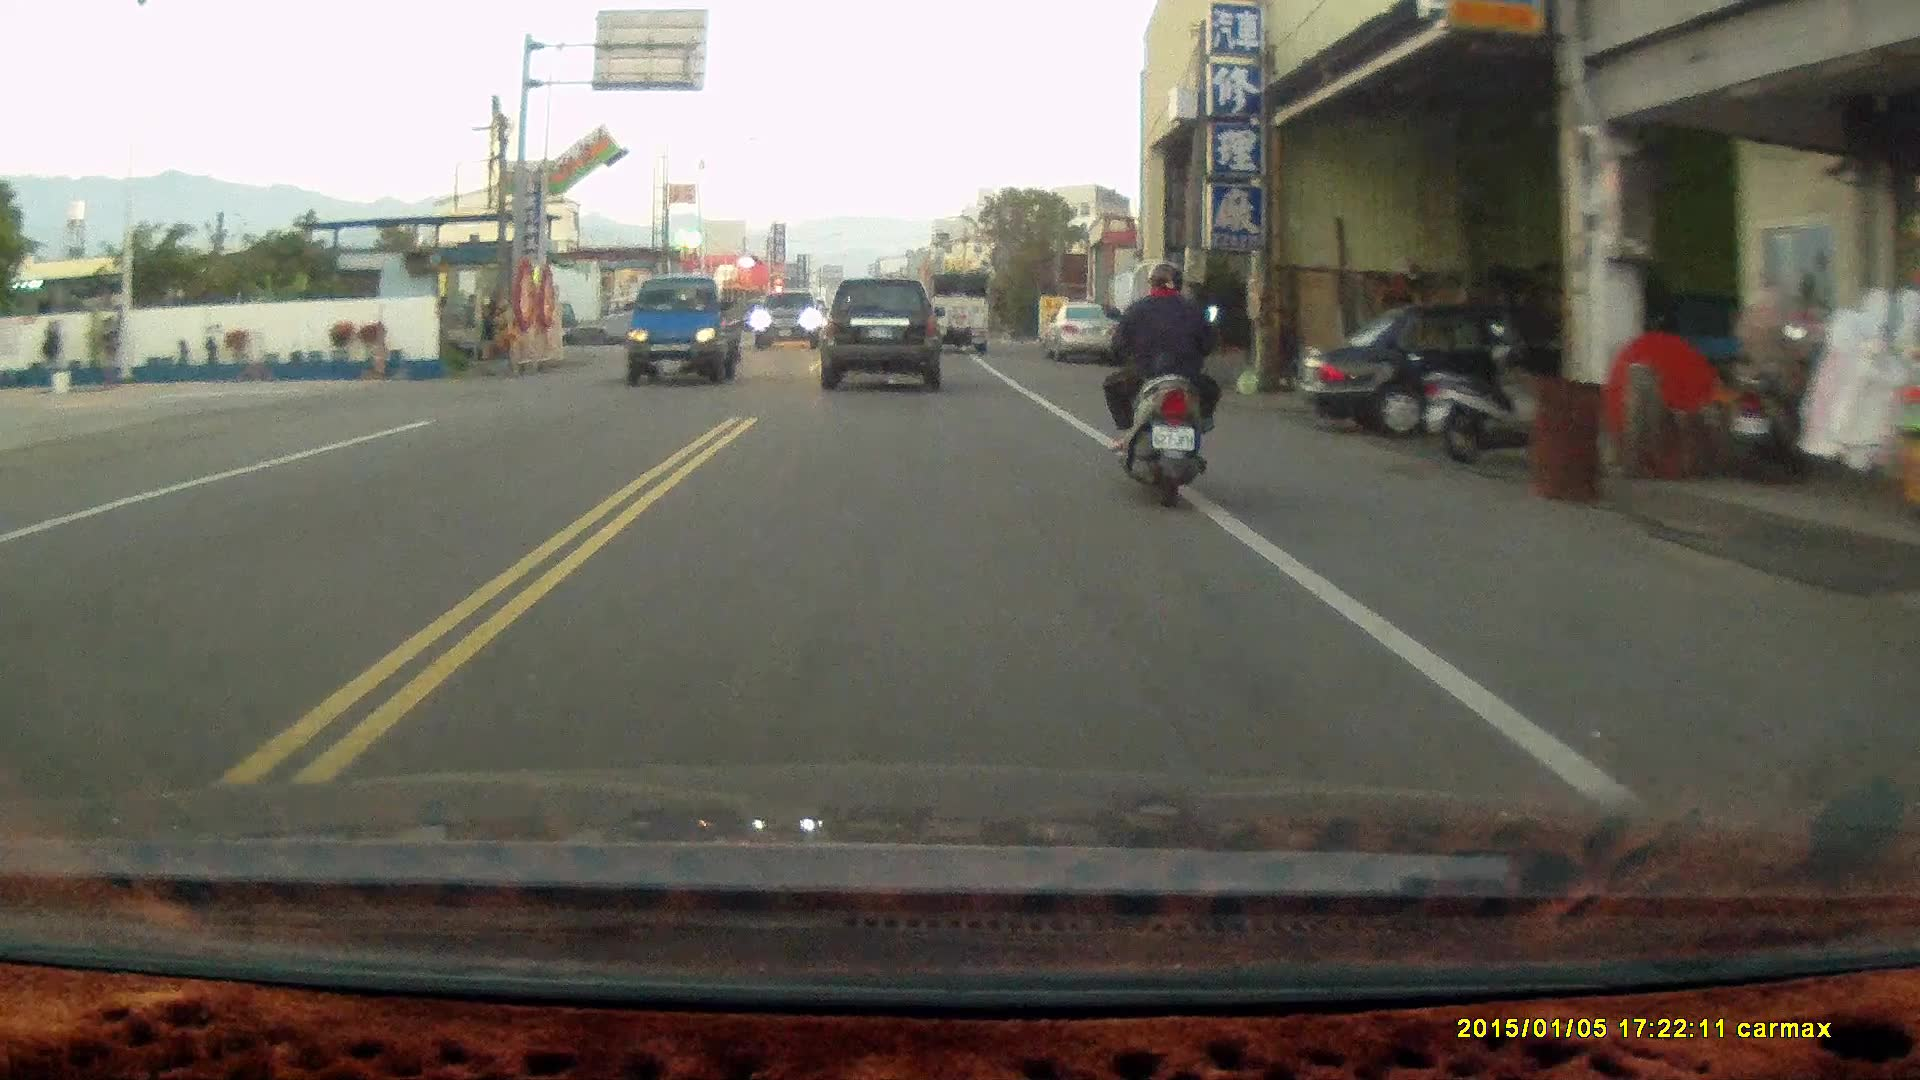rider: (1100, 261, 1221, 511)
vehicle: (1293, 293, 1608, 435), (621, 271, 751, 384), (825, 276, 943, 390), (1041, 295, 1130, 360), (924, 272, 993, 356), (596, 291, 687, 338), (755, 288, 824, 347)
